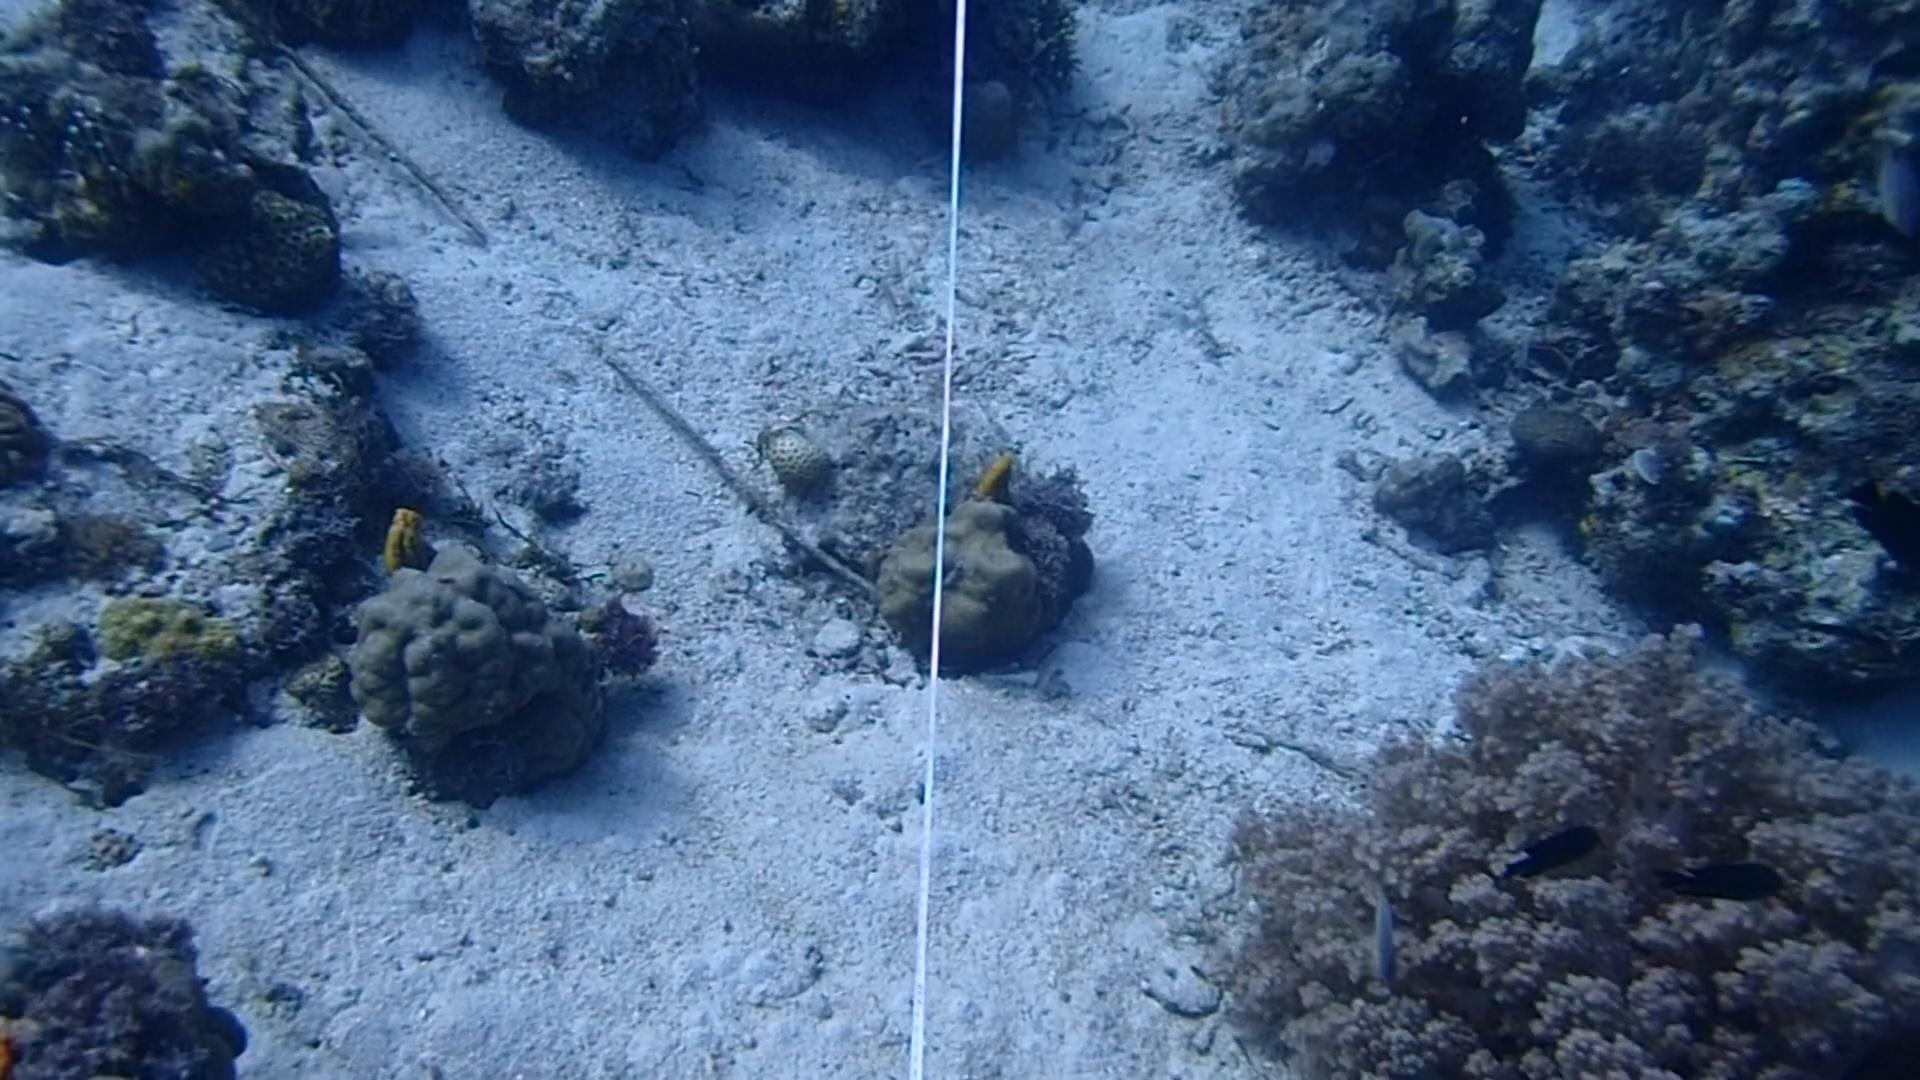Dark Fish: (1485, 814, 1621, 886), (1655, 845, 1795, 909), (1836, 480, 1920, 570)
Light Fish: (1869, 116, 1920, 257), (1365, 886, 1419, 986)
